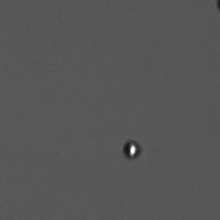Living Cell: (120, 137, 144, 161)
